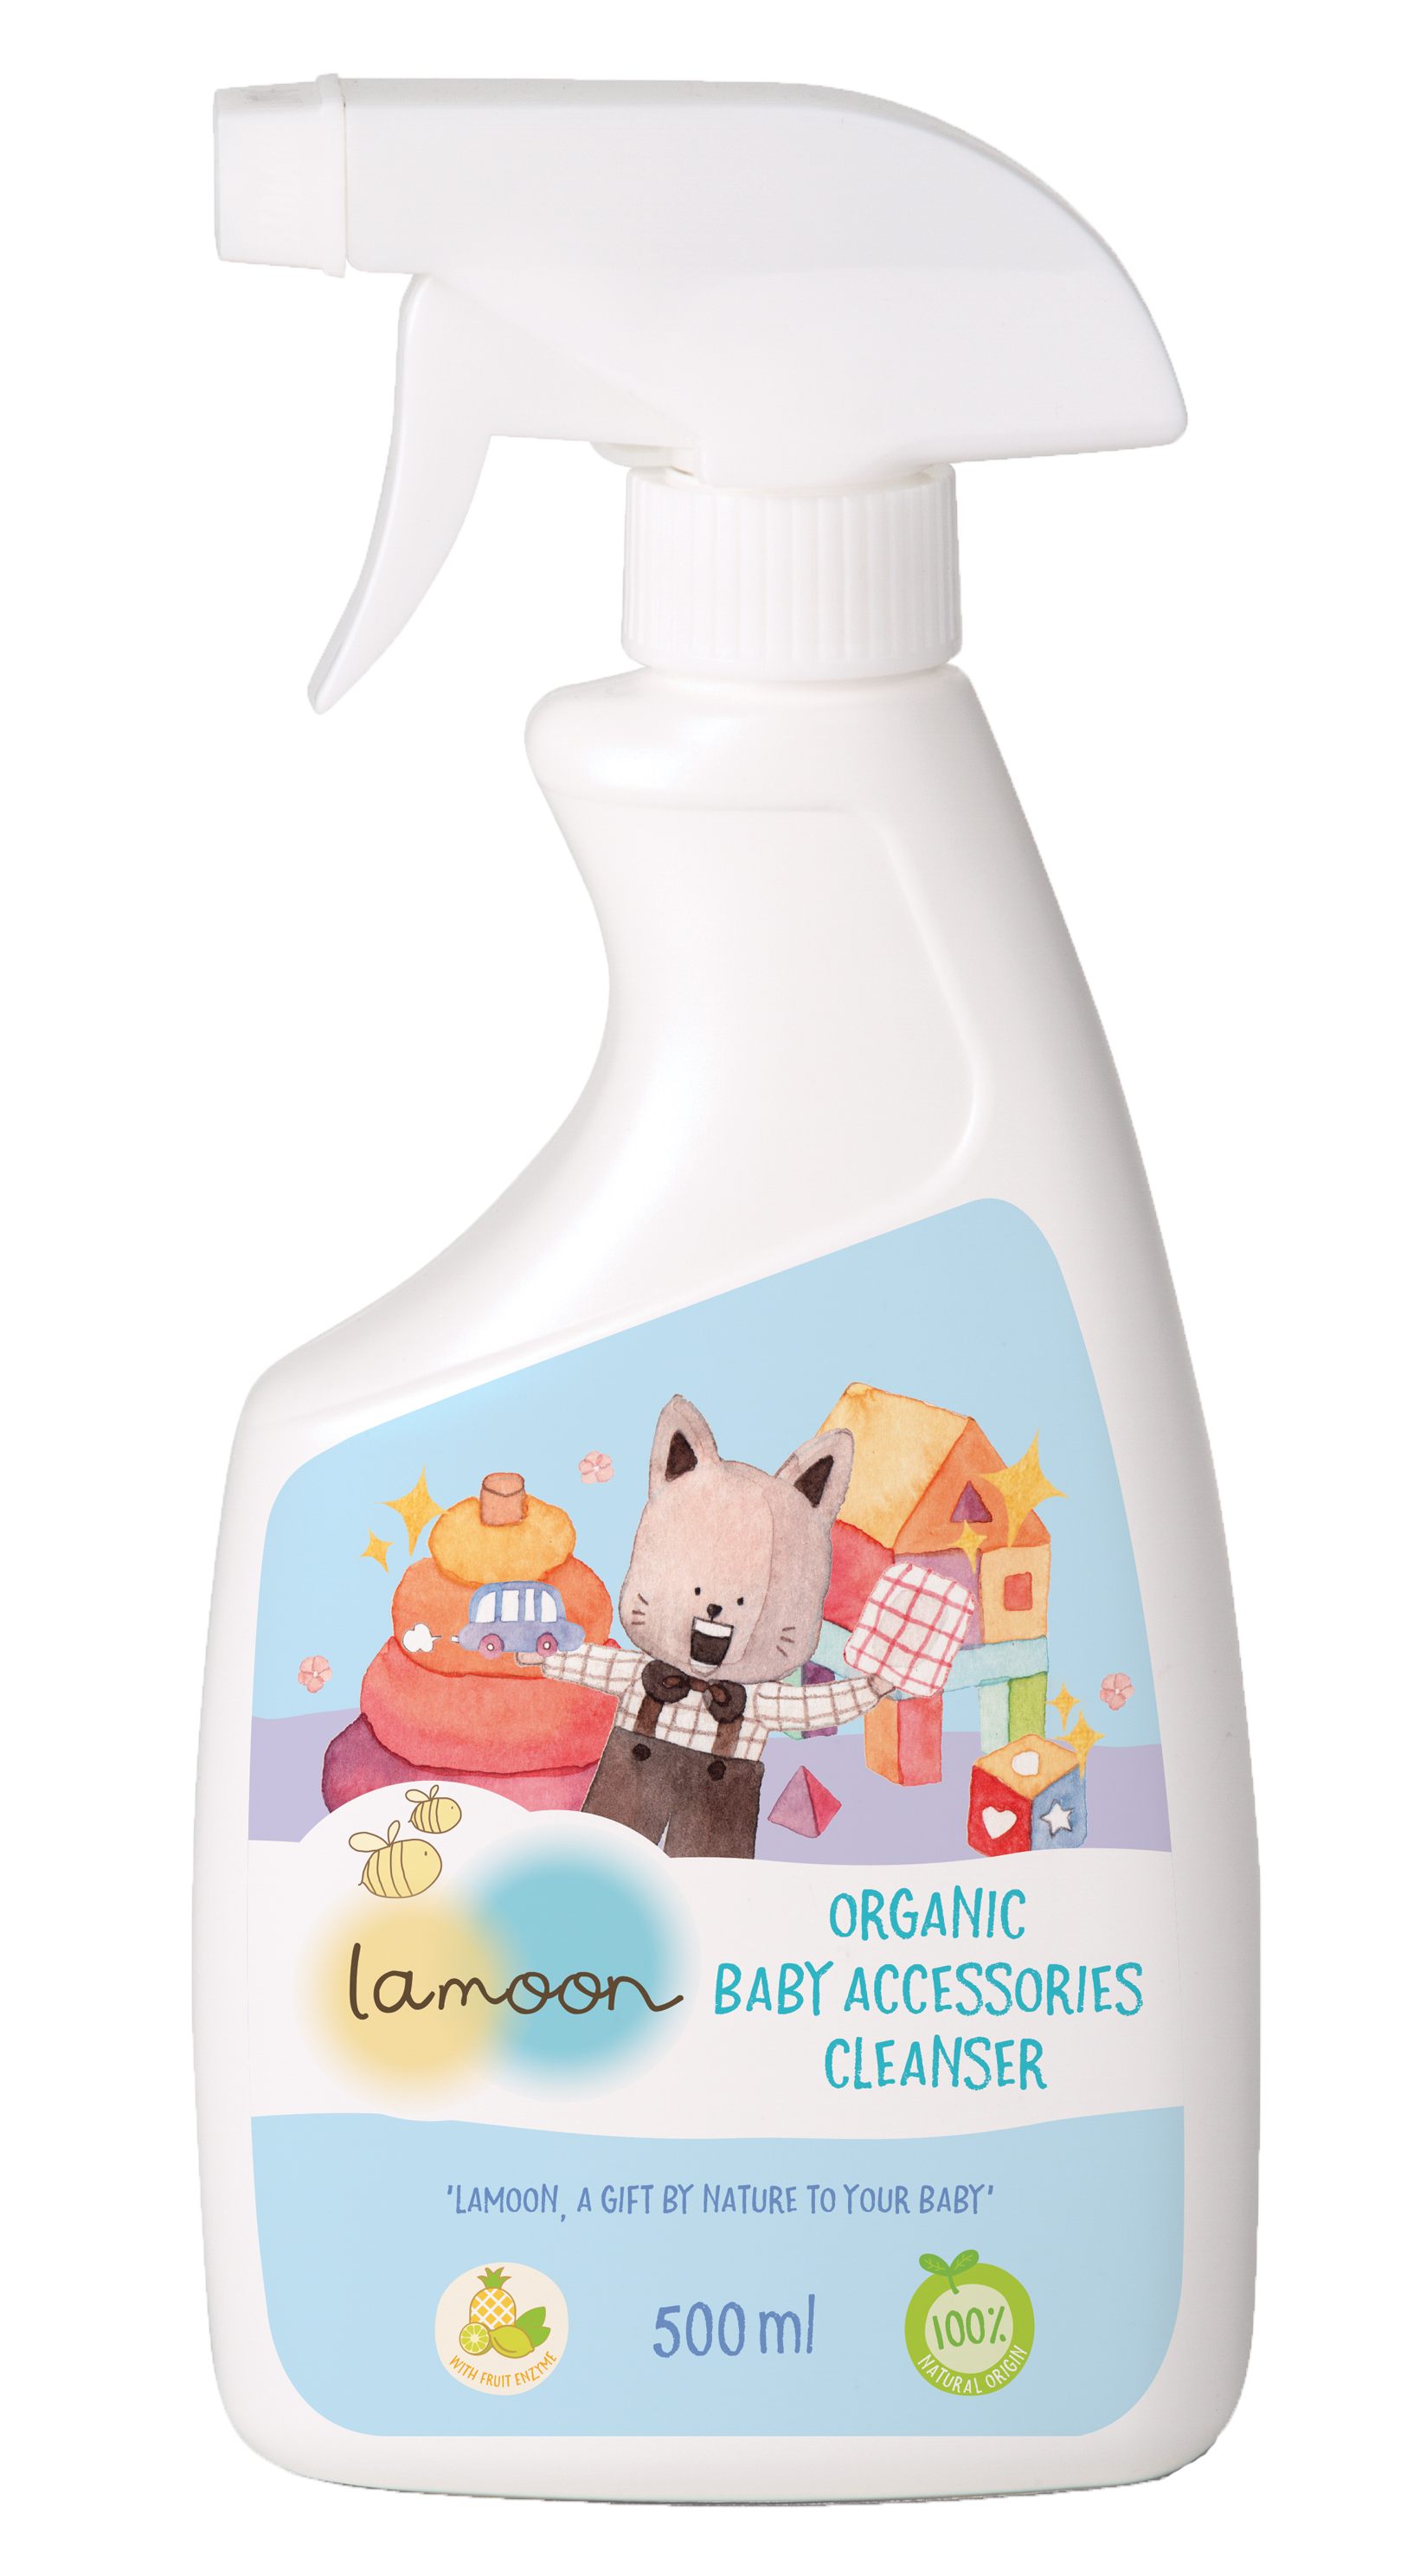Cleaning_solution: (163, 73, 1272, 2519)
